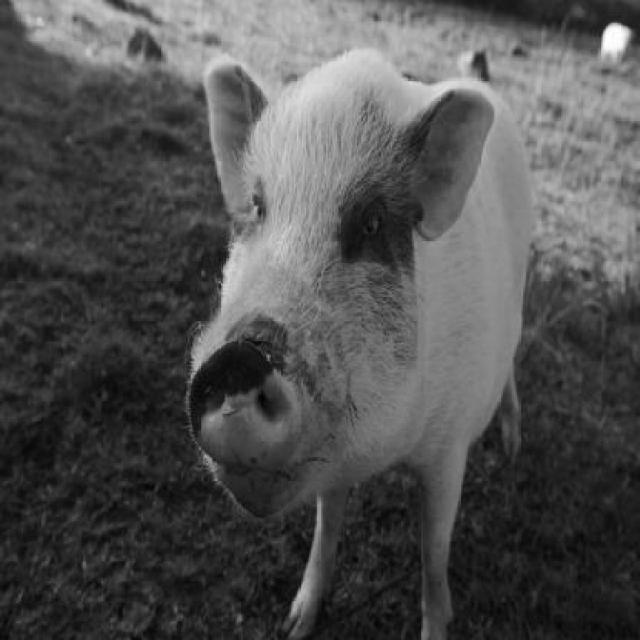Boar: (183, 44, 532, 640), (598, 23, 637, 63)
